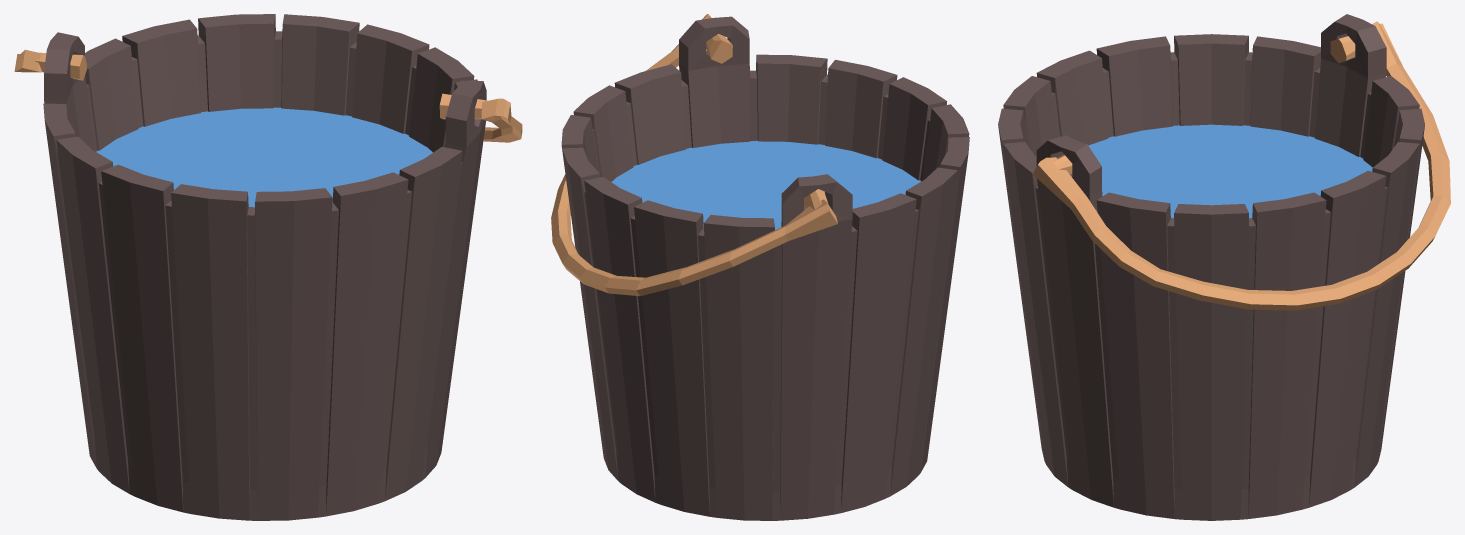
File: Bucket_2_Water.fbx
3 renders of one model, left to right at view 1: azimuth 30°, elevation 25°; view 2: azimuth 150°, elevation 25°; view 3: azimuth 270°, elevation 25°, orthographic. The views are drawn at different scales.
Parts seen in each view (by area): view 1: Circle.004, Circle.003; view 2: Circle.004, Circle.003; view 3: Circle.004, Circle.003.
Boxes of the visible parts, x1,y1,x2,y2 form: Circle.004: (14, 14, 522, 520); Circle.003: (96, 107, 432, 207); Circle.004: (551, 14, 969, 520); Circle.003: (611, 140, 920, 229); Circle.004: (998, 14, 1450, 520); Circle.003: (1088, 124, 1372, 218).
Size of the model in its own units: 346 by 308 by 346.
